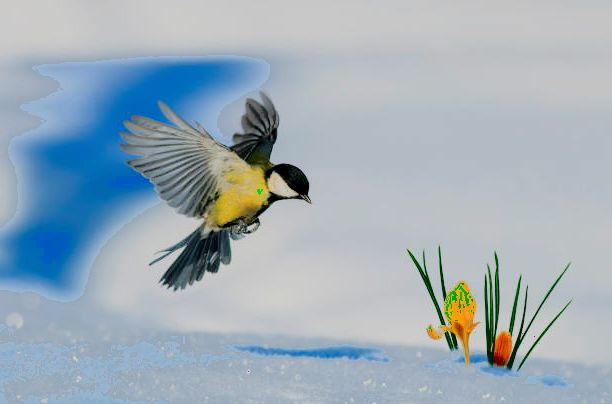Bird: (115, 83, 316, 296)
